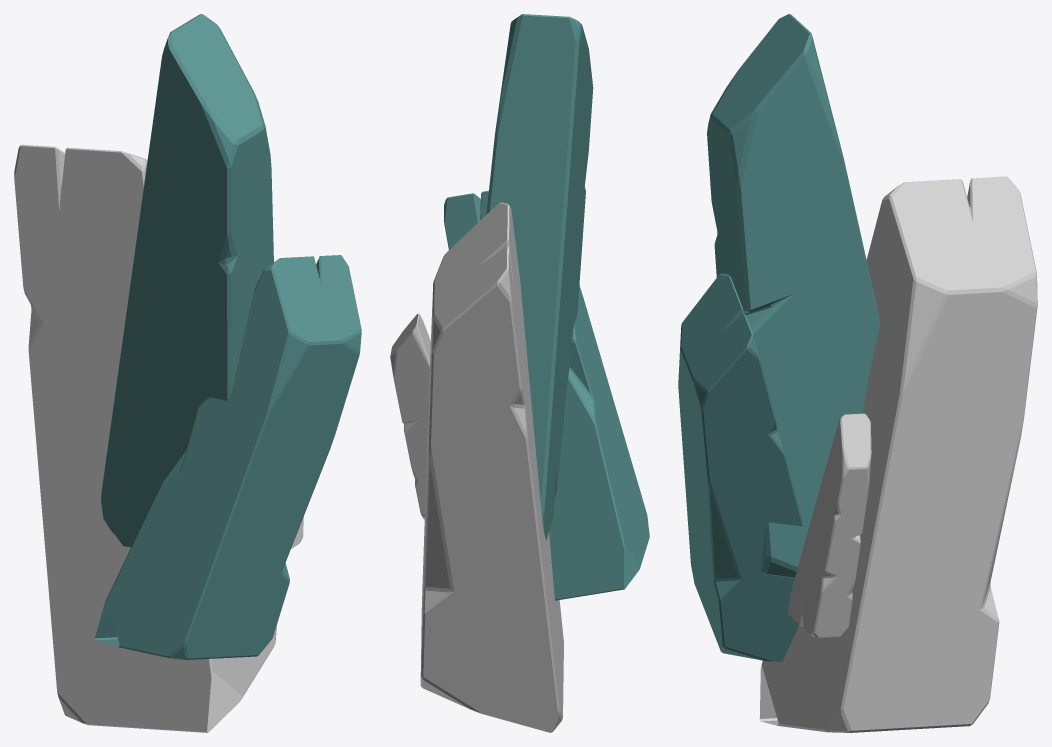
The model's file is RocksMed.fbx.
3 views of the same model, side by side, from view 1: azimuth 30°, elevation 25°; view 2: azimuth 150°, elevation 25°; view 3: azimuth 270°, elevation 25° (orthographic). The views are drawn at different scales.
Visible parts, largest first — view 1: RocksMed; view 2: RocksMed; view 3: RocksMed.
Part boxes in pixels (<box>): RocksMed: <box>14,14,361,732</box>; RocksMed: <box>390,14,649,732</box>; RocksMed: <box>678,14,1037,732</box>.
Size of the model in its own units: 626 by 1861 by 841.
